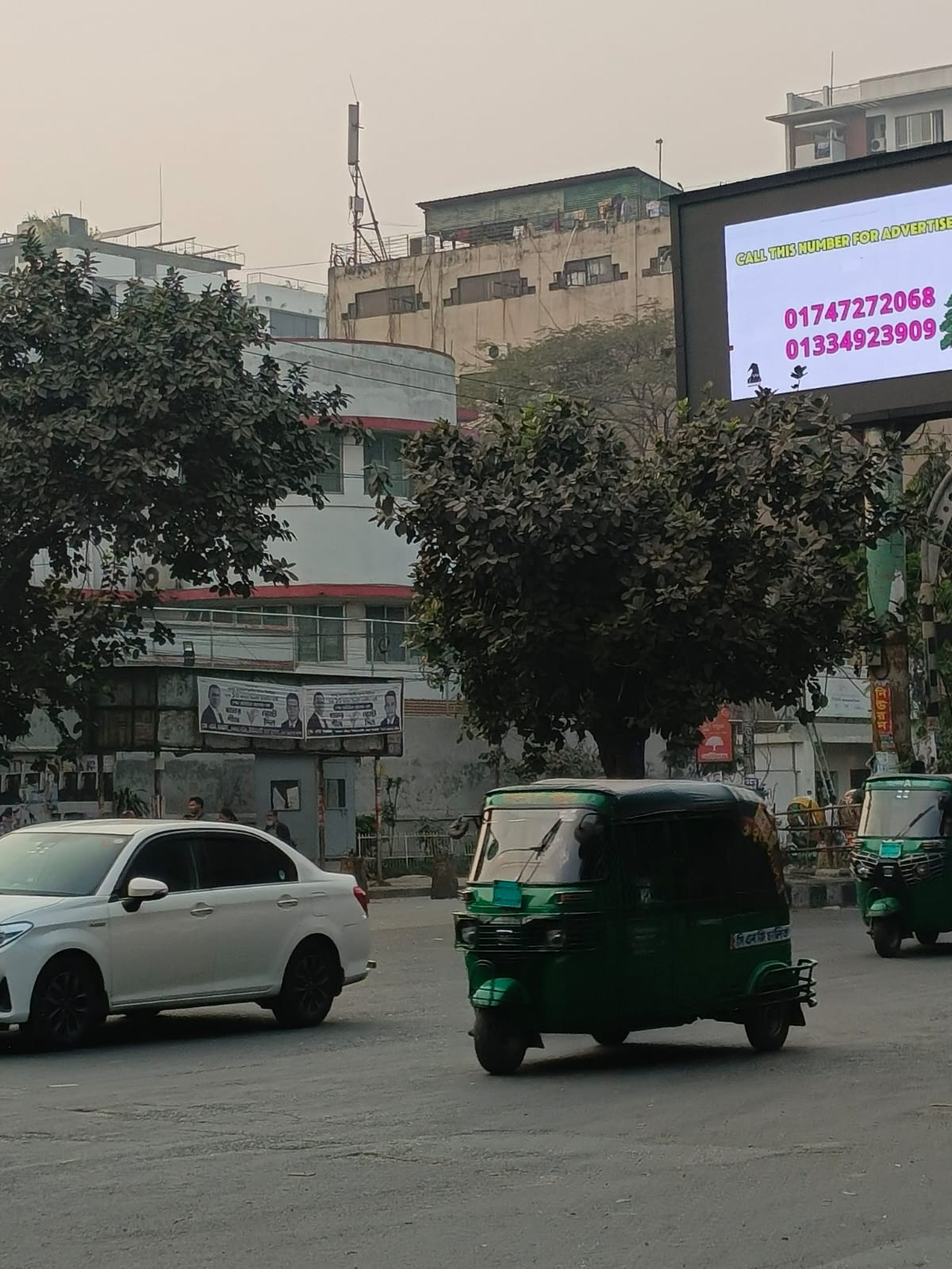cng: (452, 759, 836, 1103), (857, 765, 952, 970)
private car: (21, 767, 393, 1071)
